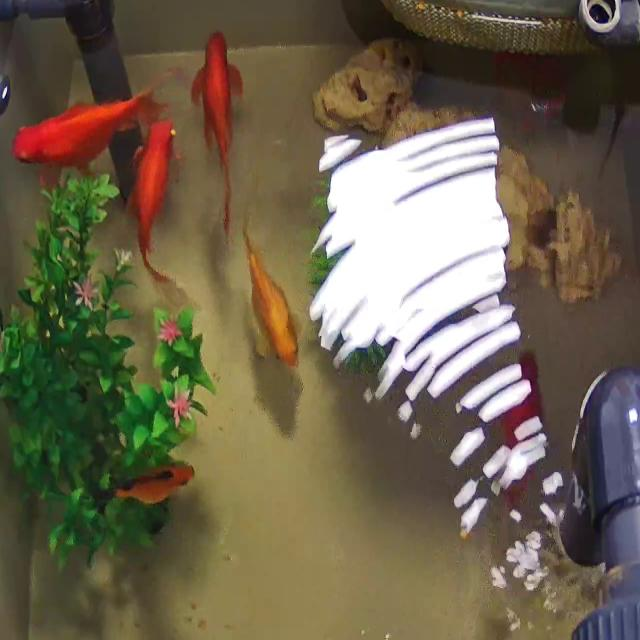fish: (10, 85, 171, 172), (192, 29, 246, 241), (124, 115, 181, 286), (242, 219, 299, 367), (91, 463, 195, 508)
